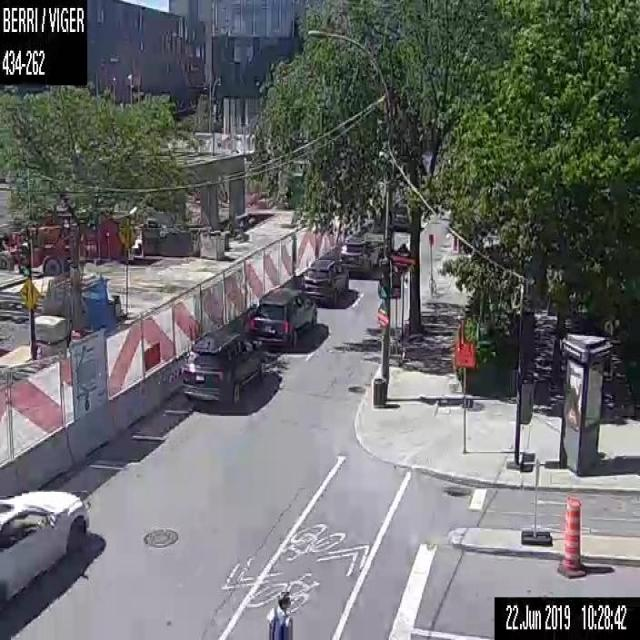construction: (0, 131, 401, 505), (556, 495, 584, 577), (453, 338, 475, 370), (34, 344, 44, 358), (70, 328, 80, 340)
pedestrian: (266, 589, 292, 639)
vehicle: (0, 486, 89, 606), (180, 329, 265, 404), (248, 285, 317, 347), (299, 258, 349, 304), (338, 236, 377, 274), (393, 198, 410, 230)
